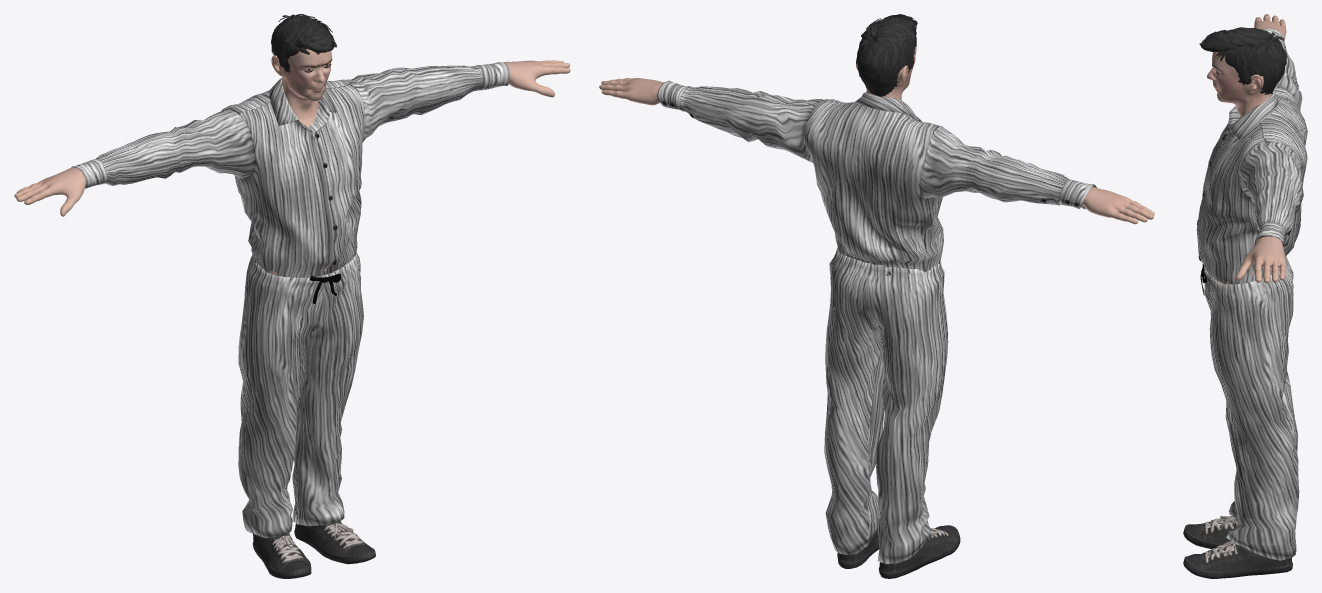
The model's file is SnowdenOBJ.obj.
3 renders of one model, left to right at view 1: azimuth 30°, elevation 25°; view 2: azimuth 150°, elevation 25°; view 3: azimuth 270°, elevation 25°, orthographic.
Visible parts, largest first — view 1: Tops, Bottoms, Body, Shoes, Hair; view 2: Tops, Bottoms, Hair, Body, Shoes; view 3: Bottoms, Tops, Body, Shoes, Hair.
Boxes of the visible parts, <box> form: Tops: <box>71,62,510,277</box>; Bottoms: <box>238,252,363,538</box>; Body: <box>14,49,570,276</box>; Shoes: <box>252,521,375,578</box>; Hair: <box>271,14,336,72</box>; Tops: <box>657,80,1096,275</box>; Bottoms: <box>824,247,948,563</box>; Hair: <box>856,14,917,96</box>; Body: <box>599,47,1154,267</box>; Shoes: <box>837,511,960,578</box>; Bottoms: <box>1200,256,1299,560</box>; Tops: <box>1196,28,1307,284</box>; Body: <box>1207,14,1286,550</box>; Shoes: <box>1183,515,1292,578</box>; Hair: <box>1199,27,1286,94</box>.
Bounding box in the file's own units: 194 × 180 × 38.35.
1 material, 1 textured.
